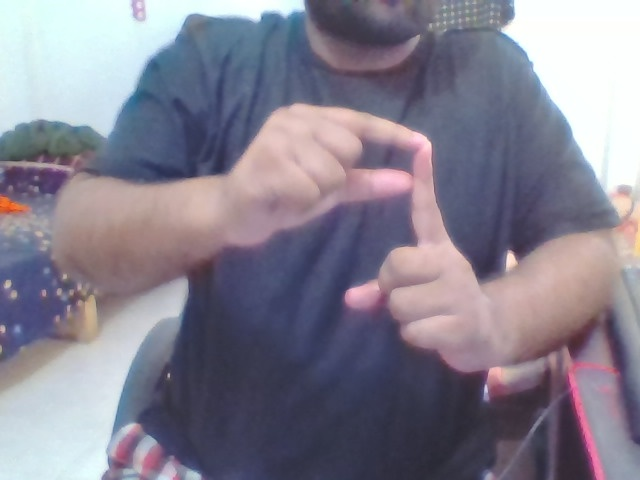P: (222, 85, 506, 410)
